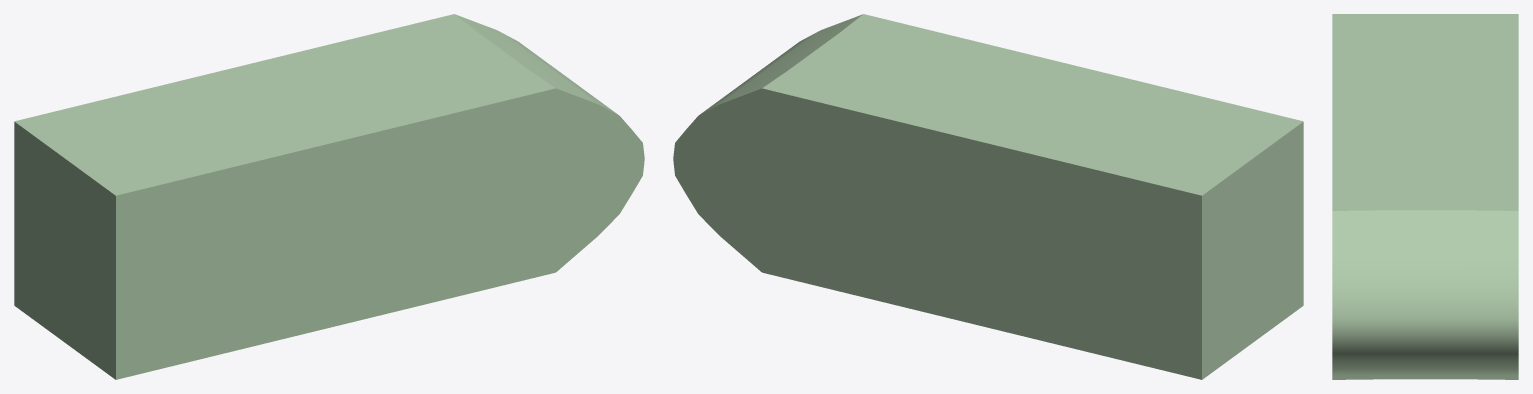
3 renders of one model, left to right at view 1: azimuth 30°, elevation 25°; view 2: azimuth 150°, elevation 25°; view 3: azimuth 270°, elevation 25°, orthographic. The views are drawn at different scales.
Visible parts, largest first — view 1: pCube1; view 2: pCube1; view 3: pCube1.
Boxes of the visible parts, x1,y1,x2,y2 form: pCube1: [14, 14, 644, 379]; pCube1: [673, 14, 1303, 379]; pCube1: [1332, 14, 1518, 379].
Bounding box in the file's own units: 3 × 1 × 1.
